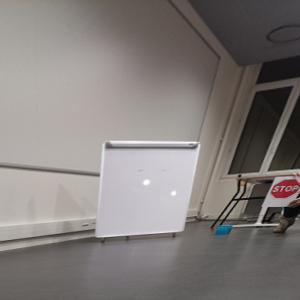stop: (272, 178, 299, 198)
